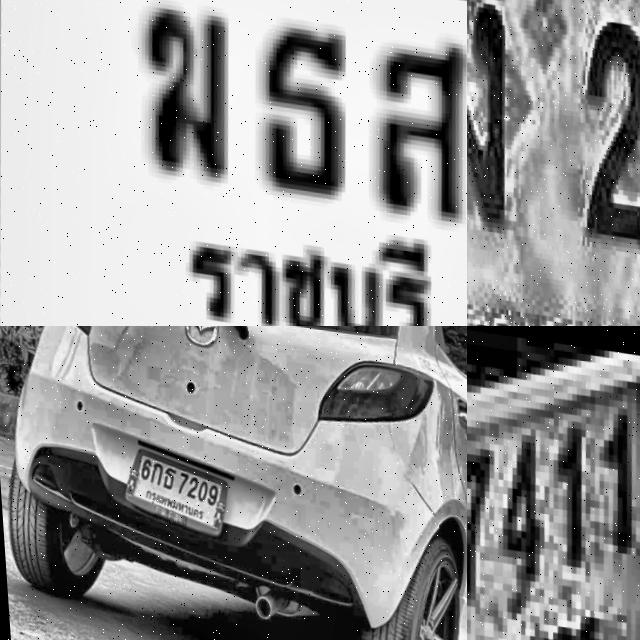license-plate: (0, 0, 467, 326), (467, 0, 640, 326), (467, 326, 640, 640), (114, 434, 228, 534)
